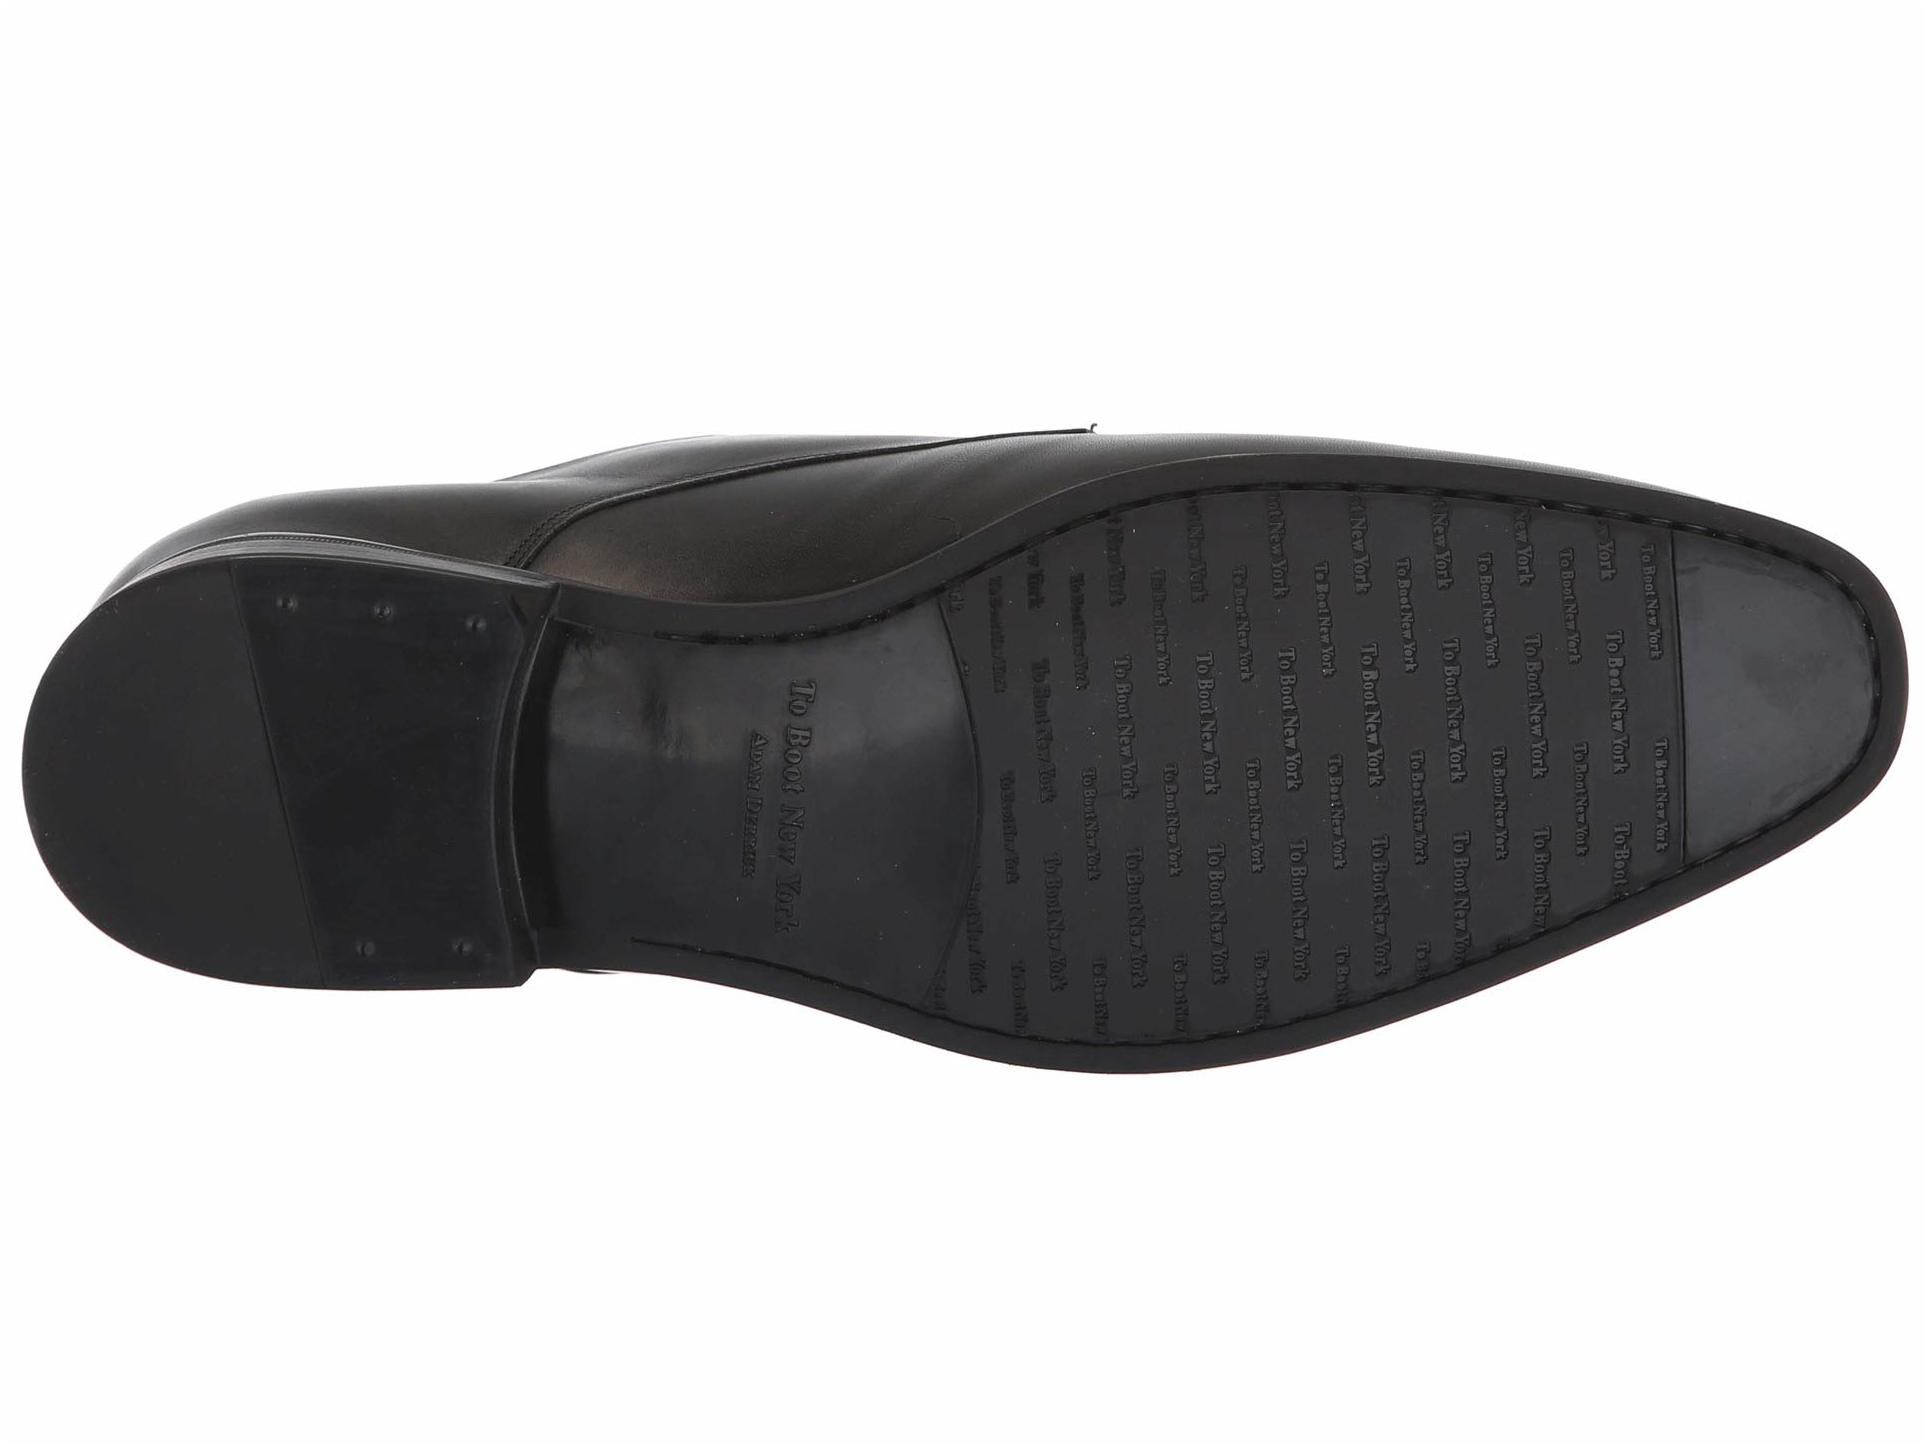circle: (244, 573, 510, 666), (331, 912, 487, 979)
line: (216, 663, 335, 873), (1668, 588, 1720, 835)
text: (1034, 545, 1371, 985), (1412, 561, 1659, 839)
